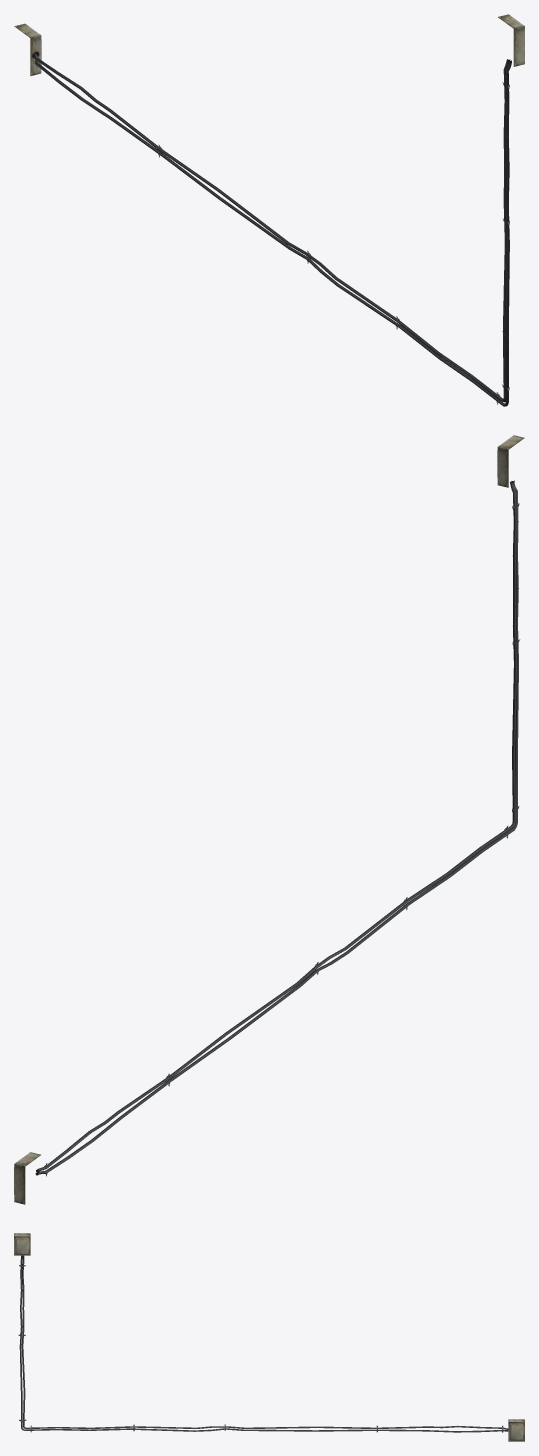
File: wall_wires1.glb
The picture shows the model from 3 angles, top to bottom: view 1: azimuth 30°, elevation 25°; view 2: azimuth 150°, elevation 25°; view 3: azimuth 270°, elevation 25°; orthographic projection. The views are drawn at different scales.
Parts seen in each view (by area): view 1: 0_wall_wires1; view 2: 0_wall_wires1; view 3: 0_wall_wires1.
Boxes of the visible parts, x1,y1,x2,y2 form: 0_wall_wires1: [14, 14, 524, 406]; 0_wall_wires1: [14, 435, 524, 1204]; 0_wall_wires1: [14, 1233, 524, 1441].
Size of the model in its own units: 0.1025 by 2.78 by 6.27.
Materials: 1 (1 with a texture image).
